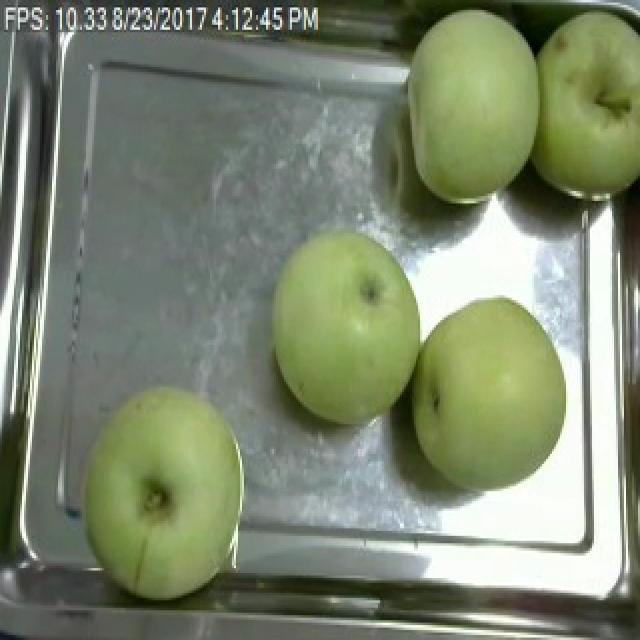50-_ripeness: (85, 390, 253, 600), (268, 230, 429, 438), (400, 6, 546, 217), (416, 290, 563, 494), (531, 0, 640, 223)
